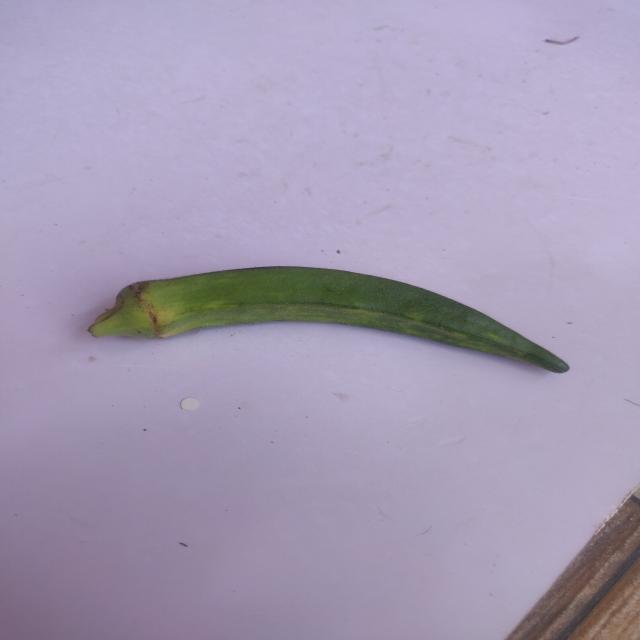Ladies Finger: (65, 263, 575, 389)
